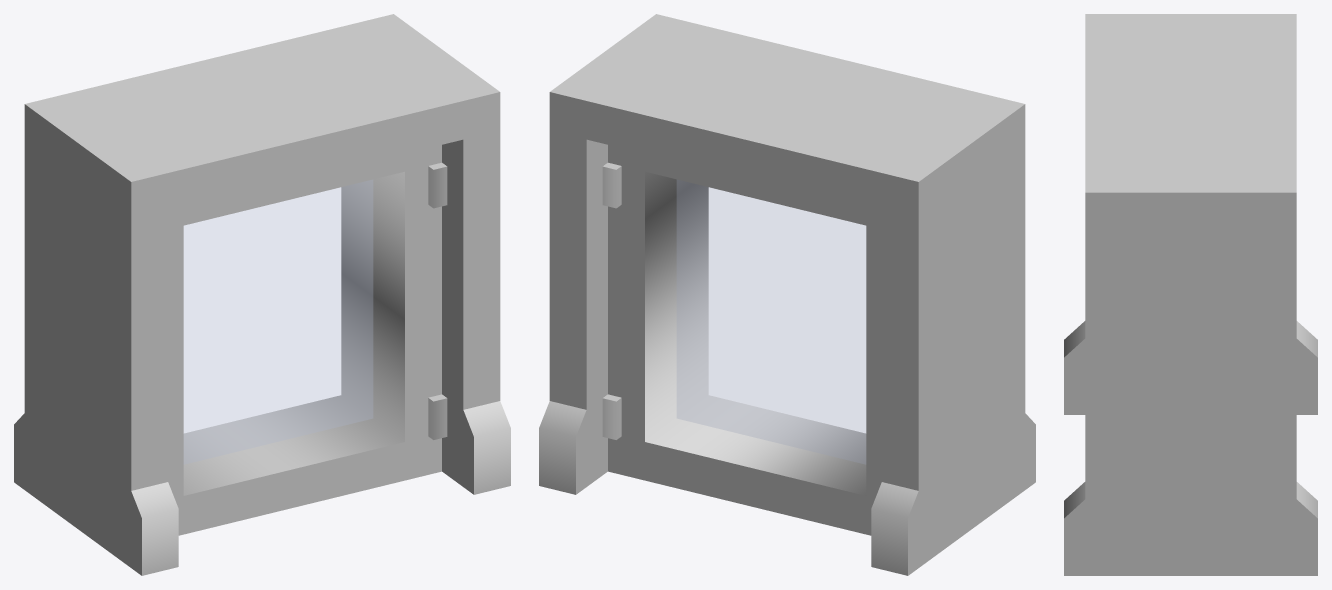
Rendered from wall-window.glb.
3 renders of one model, left to right at view 1: azimuth 30°, elevation 25°; view 2: azimuth 150°, elevation 25°; view 3: azimuth 270°, elevation 25°, orthographic.
Parts seen in each view (by area): view 1: wall-window, (%ignore); view 2: wall-window, (%ignore); view 3: wall-window.
Part boxes in pixels (x1,y1,x2,y2): wall-window: (14, 14, 510, 575); (%ignore): (184, 180, 372, 464); wall-window: (539, 14, 1035, 575); (%ignore): (677, 180, 865, 464); wall-window: (1064, 14, 1317, 575).
Size of the model in its own units: 1 by 1 by 0.6.
